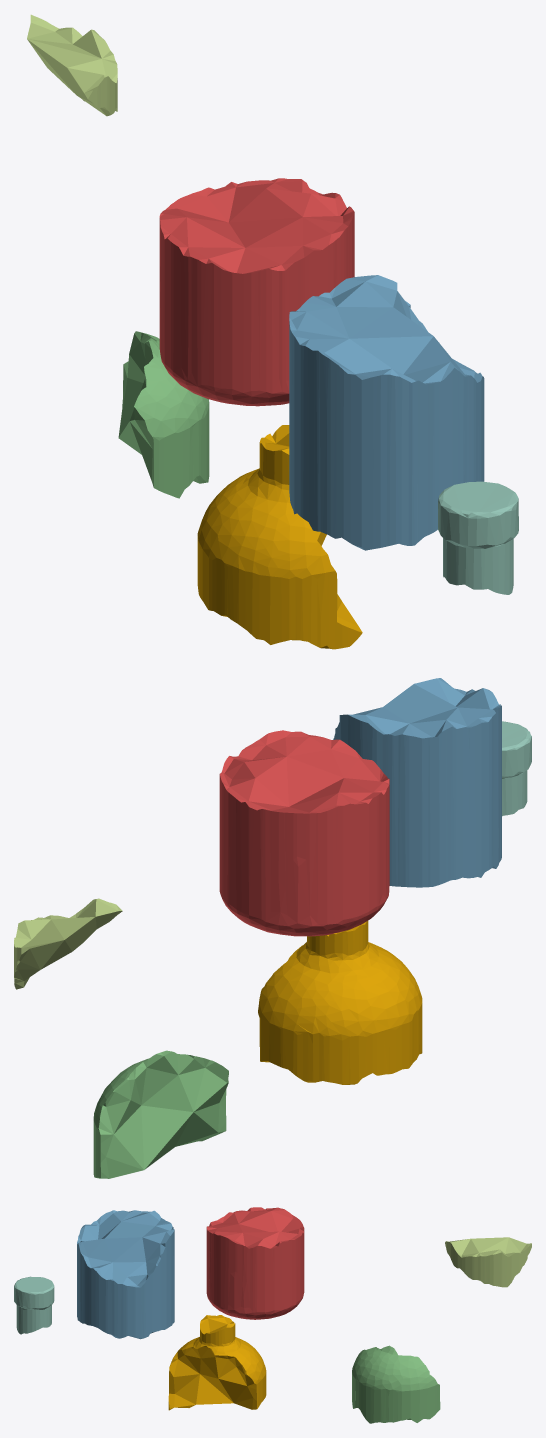
File: fractured_36_6pcs_transformed.glb
The picture shows the model from 3 angles, top to bottom: view 1: azimuth 30°, elevation 25°; view 2: azimuth 150°, elevation 25°; view 3: azimuth 270°, elevation 25°; orthographic projection. The views are drawn at different scales.
Parts seen in each view (by area): view 1: piece_2.obj, piece_1.obj, piece_0.obj, piece_3.obj, piece_4.obj, piece_5.obj; view 2: piece_1.obj, piece_2.obj, piece_0.obj, piece_3.obj, piece_5.obj, piece_4.obj; view 3: piece_2.obj, piece_1.obj, piece_0.obj, piece_3.obj, piece_5.obj, piece_4.obj.
Boxes of the visible parts, x1,y1,x2,y2 form: piece_2.obj: (289, 275, 484, 550); piece_1.obj: (159, 178, 354, 406); piece_0.obj: (197, 425, 362, 649); piece_3.obj: (118, 331, 209, 498); piece_4.obj: (438, 481, 518, 594); piece_5.obj: (27, 14, 117, 116); piece_1.obj: (219, 730, 389, 936); piece_2.obj: (333, 678, 501, 887); piece_0.obj: (258, 921, 422, 1084); piece_3.obj: (93, 1050, 228, 1178); piece_5.obj: (14, 898, 122, 989); piece_4.obj: (502, 721, 531, 816); piece_2.obj: (77, 1210, 174, 1339); piece_1.obj: (206, 1207, 304, 1319); piece_0.obj: (168, 1315, 266, 1410); piece_3.obj: (352, 1345, 440, 1423); piece_5.obj: (445, 1237, 531, 1287); piece_4.obj: (14, 1276, 54, 1334).
Bounding box in the file's own units: 0.3203 × 0.6877 × 1.7.
